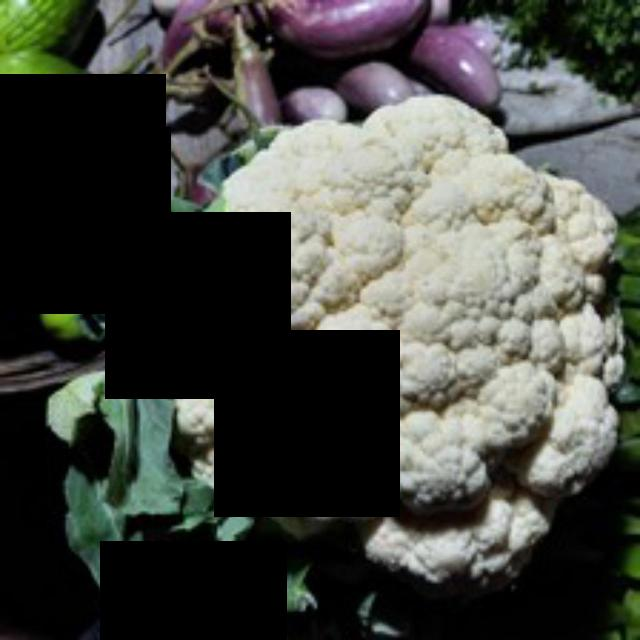cauliflower: (128, 85, 637, 602)
